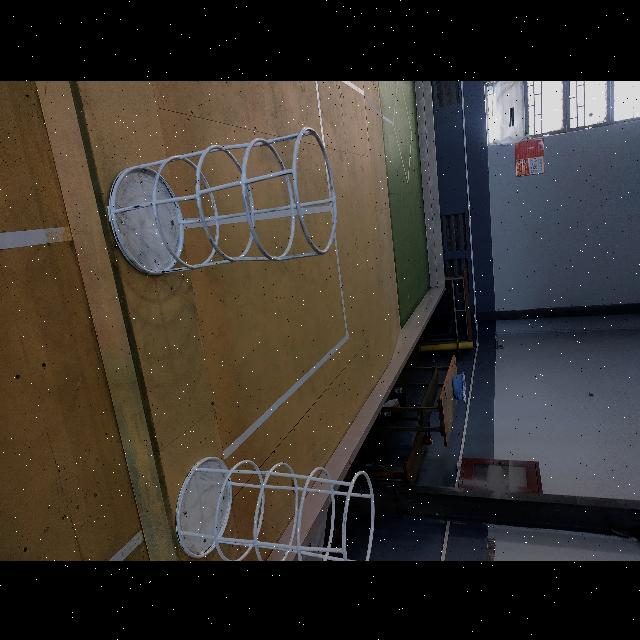S: (107, 126, 339, 275), (170, 455, 377, 560)
